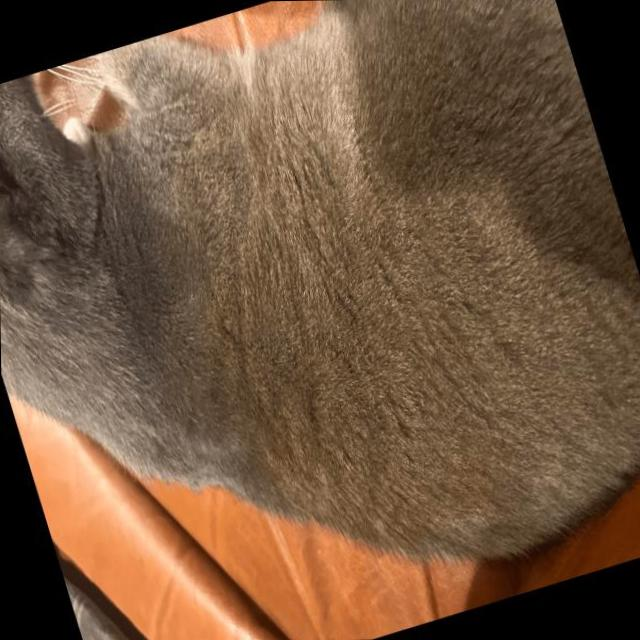Healthy skin: (332, 11, 624, 386), (105, 119, 342, 412), (0, 183, 145, 366), (468, 398, 592, 534), (345, 392, 436, 506)
